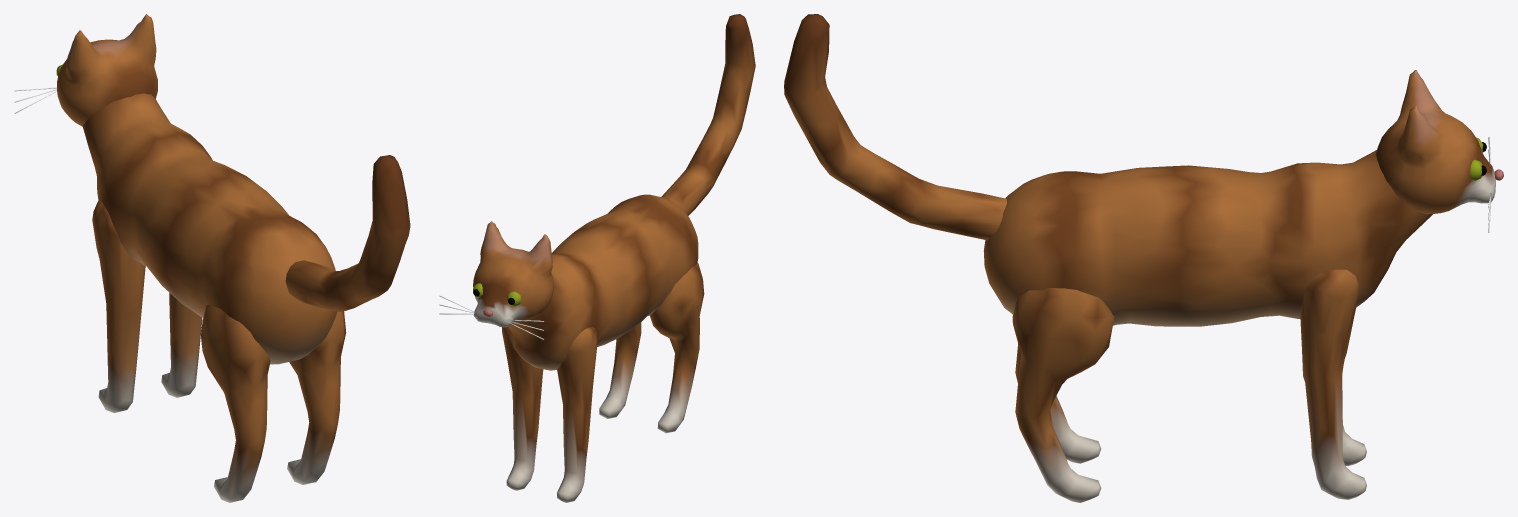
File: animal_cat.glb
3 renders of one model, left to right at view 1: azimuth 30°, elevation 25°; view 2: azimuth 150°, elevation 25°; view 3: azimuth 270°, elevation 25°, orthographic. The views are drawn at different scales.
Visible parts, largest first — view 1: Body, Tail, LegBL, Head, LegFL, LegBR, LegFR; view 2: Body, Head, Tail, LegBL, LegFL, LegFR, LegBR; view 3: Body, Tail, LegBR, Head, LegFR, LegBL.
Boxes of the visible parts, x1,y1,x2,y2 form: Body: (82, 93, 337, 364); Tail: (285, 155, 410, 311); LegBL: (201, 305, 270, 502); Head: (14, 14, 157, 126); LegFL: (92, 200, 145, 412); LegBR: (287, 311, 346, 484); LegFR: (161, 293, 202, 397); Body: (507, 194, 698, 370); Head: (439, 221, 553, 339); Tail: (661, 14, 755, 215); LegBL: (650, 262, 704, 433); LegFL: (557, 327, 597, 502); LegFR: (502, 327, 543, 490); LegBR: (599, 322, 641, 418); Body: (983, 150, 1432, 326); Tail: (784, 14, 1006, 240); LegBR: (1012, 288, 1114, 502); Head: (1375, 70, 1503, 232); LegFR: (1300, 269, 1366, 499); LegBL: (1015, 344, 1101, 463).
Bounding box in the file's own units: 0.1503 × 0.4632 × 0.65.
